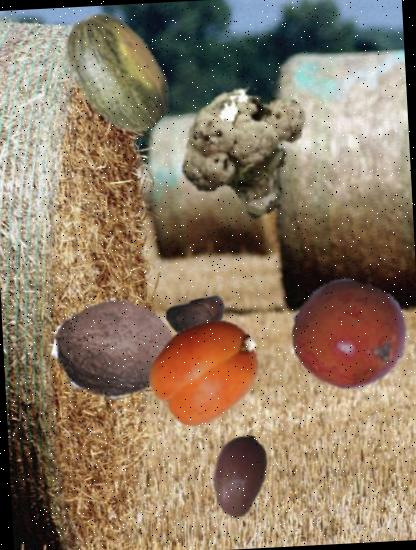Apricot: (146, 310, 264, 429)
Cauliflower: (176, 77, 324, 225)
Chestnut: (164, 285, 230, 350)
Cocos: (51, 285, 180, 414)
Melon: (50, 4, 184, 139)
Pomegranate: (289, 272, 411, 394)
Potato: (195, 432, 284, 520)
